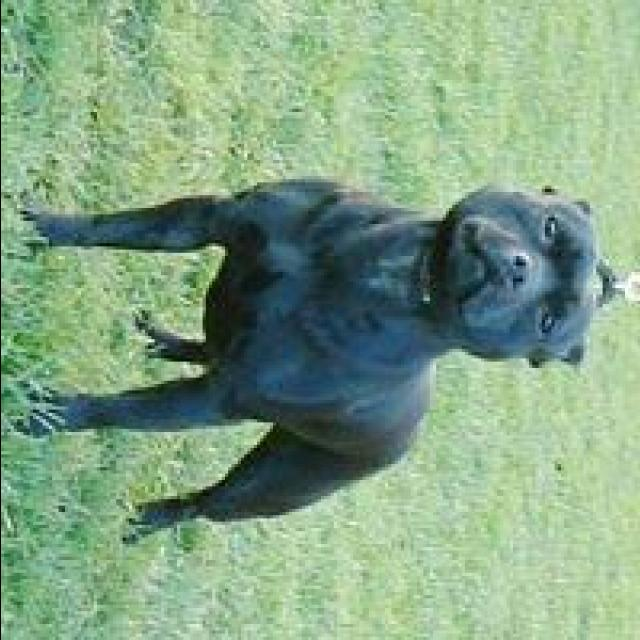staffordshire_bullterrier: (6, 163, 608, 541)
